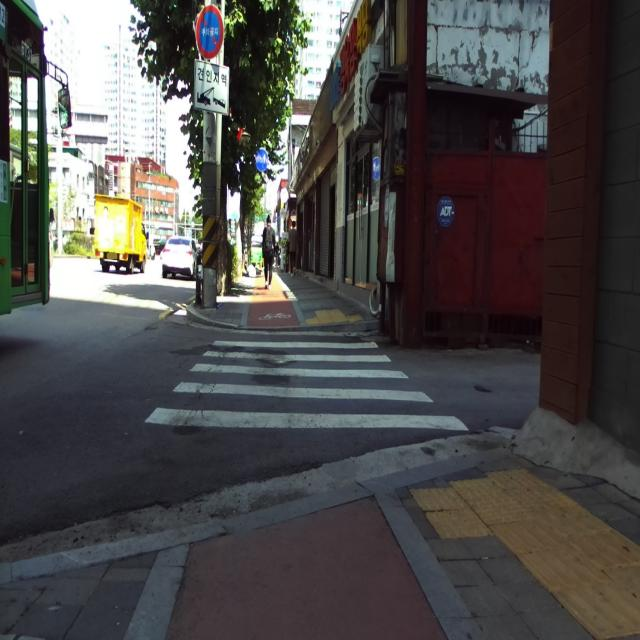횡단보도: (145, 341, 469, 430)
